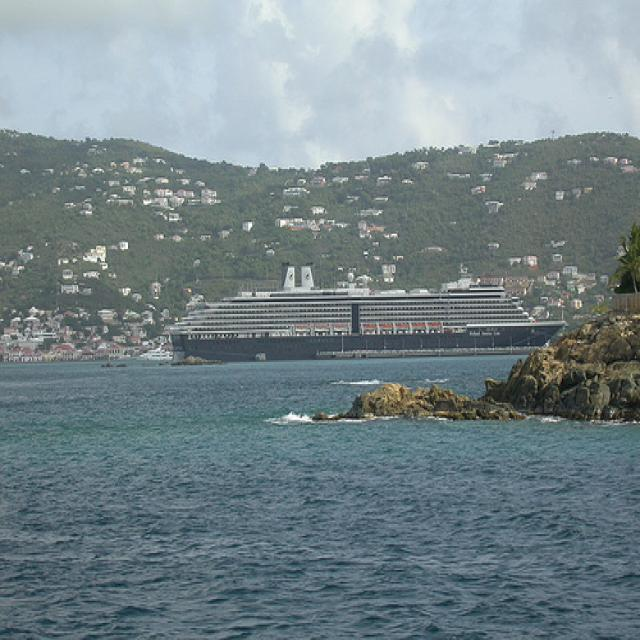boat: (159, 250, 575, 361)
